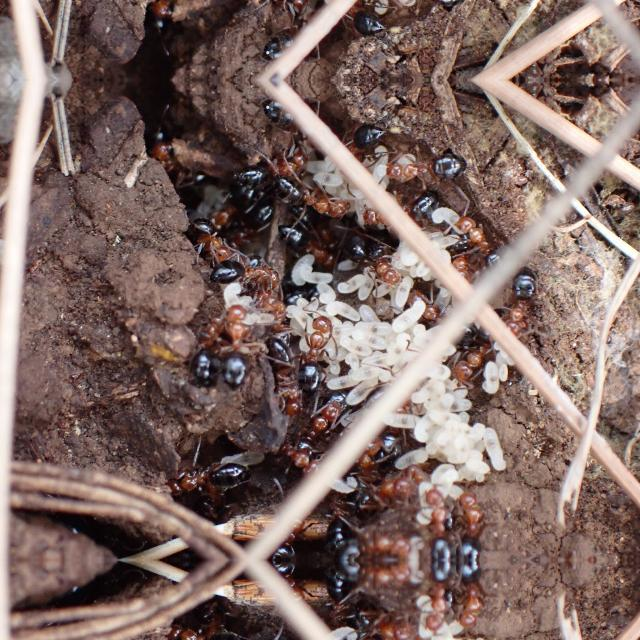Camponotus: (274, 391, 352, 471), (171, 304, 229, 394), (346, 460, 434, 514), (290, 309, 346, 391), (160, 453, 252, 499), (230, 144, 314, 194), (360, 175, 434, 231), (213, 304, 260, 390), (314, 476, 362, 560), (256, 328, 304, 412), (270, 176, 356, 222), (376, 144, 470, 186), (313, 560, 362, 640), (493, 267, 547, 339), (342, 230, 408, 288), (278, 223, 348, 277), (138, 92, 188, 166), (449, 210, 509, 270), (258, 92, 329, 142), (258, 18, 329, 68), (412, 483, 458, 559), (412, 561, 458, 637), (408, 286, 472, 340), (455, 484, 499, 560), (455, 560, 499, 636), (138, 0, 188, 66), (328, 119, 392, 169), (347, 438, 395, 504), (444, 333, 504, 385), (210, 253, 288, 293), (370, 425, 440, 469), (328, 526, 418, 560), (328, 560, 418, 594), (344, 606, 434, 640), (180, 208, 228, 266), (326, 0, 391, 40), (266, 508, 310, 560), (266, 560, 310, 612), (160, 620, 252, 640), (374, 0, 470, 16), (230, 0, 314, 16), (347, 616, 395, 640)
